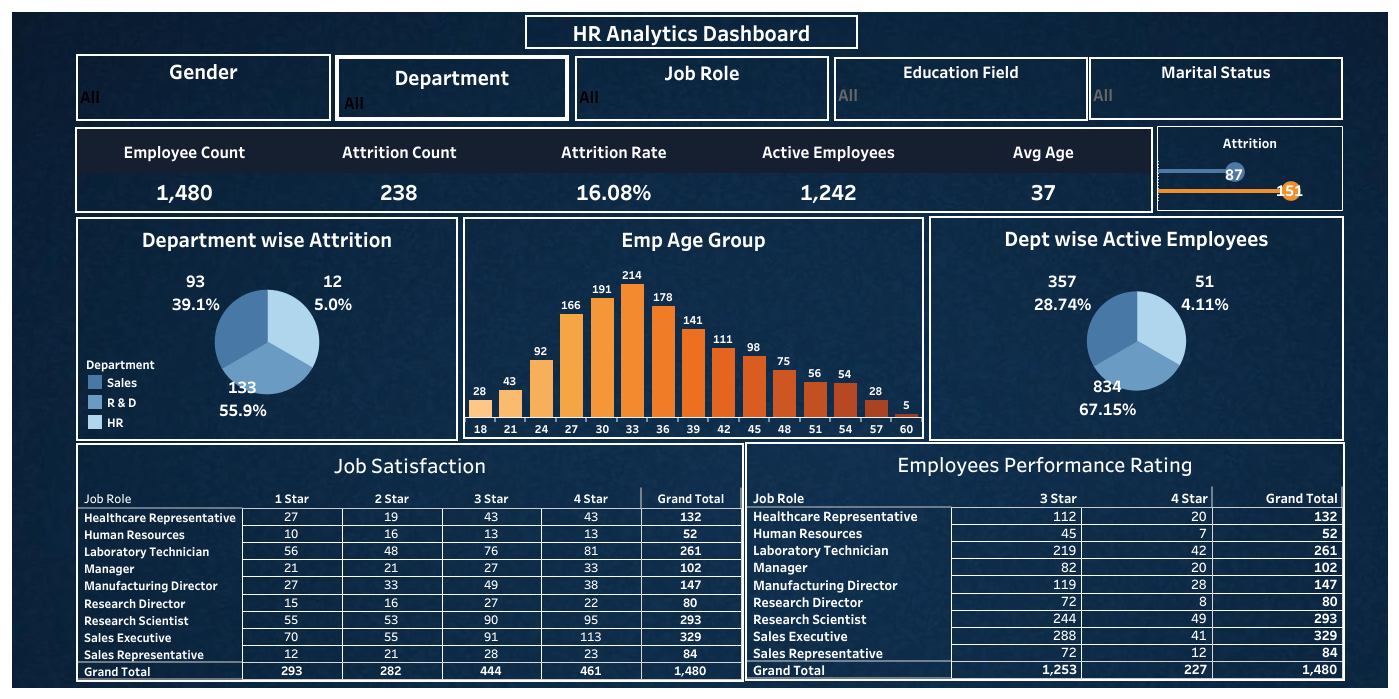

This screenshot's page, from the dashboard's own definition file:
{"tool":"tableau","page":{"name":"Dashboard 1","canvas":[1000,1000],"units":"permille","ordinal":0},"visuals":[{"type":"image","param":"Image/dark-blue-paper-texture-wall-background-design-illustration-eps10-vector.j","box":[5.7,11.4,988.6,977.1]},{"type":"text","box":[374.9,21.2,237.9,48.8]},{"type":"filter","title":"Total Employees","param":"[federated.0ett6mc152xcts19dvu2r16h01vx].[none:Gender:nk]","box":[54.6,77.1,181.5,95.7]},{"type":"filter","title":"Emp Age Group","param":"[federated.0ett6mc152xcts19dvu2r16h01vx].[none:Department:nk]","box":[239.3,78.6,167.1,94.3]},{"type":"filter","title":"Job Satisfaction","param":"[federated.0ett6mc152xcts19dvu2r16h01vx].[none:JobRole:nk]","box":[410.7,80,181.4,92.9]},{"type":"filter","title":"Attrition By Gender","param":"[federated.0ett6mc152xcts19dvu2r16h01vx].[none:EducationField:nk]","box":[595.7,81.4,181.4,91.4]},{"type":"filter","title":"Attrition By Gender","param":"[federated.0ett6mc152xcts19dvu2r16h01vx].[none:MaritalStatus:nk]","box":[777.9,81.4,181.4,90]},{"type":"worksheet","title":"Attrition By Gender","mark":"Automatic","rows":["Gender"],"cols":["Calculation_1640436215264350209","Calculation_1640436215264350209"],"box":[826.1,180,133.1,121.4]},{"type":"worksheet","title":"Total Employees","mark":"Automatic","box":[53.9,181.4,770,122.9]},{"type":"worksheet","title":"Dept wise Active Employees","mark":"Pie","box":[663.9,308.6,296.2,321.4]},{"type":"worksheet","title":"Dept wise Attrition Count","mark":"Pie","box":[54.6,310,272.3,320]},{"type":"worksheet","title":"Emp Age Group","mark":"Automatic","rows":["EmployeeCount"],"cols":["Age (bin)"],"box":[330.8,310,329.2,317.1]},{"type":"legend","title":"Dept wise Attrition Count","param":"[federated.0ett6mc152xcts19dvu2r16h01vx].[none:Department:nk]","box":[60.7,504.3,67.9,115.7]},{"type":"worksheet","title":"Performance Rating","mark":"Automatic","rows":["JobRole"],"cols":["PerformanceRating"],"box":[532.3,631.4,428.5,341.4]},{"type":"worksheet","title":"Job Satisfaction","mark":"Automatic","rows":["JobRole"],"cols":["JobSatisfaction"],"box":[54.6,632.9,476.9,341.4]}]}

Visuals, with their boxes on the dashboard's canvas, which has no fixed pixel size, in thousandths of its width and height (x1, y1, x2, y2). These are canvas units, not pixel positions in the 1399x699 screenshot, which may show the page scaled, cropped or inside an application window:
image: [6, 11, 994, 988]
text: [375, 21, 613, 70]
"Total Employees" filter: [55, 77, 236, 173]
"Emp Age Group" filter: [239, 79, 406, 173]
"Job Satisfaction" filter: [411, 80, 592, 173]
"Attrition By Gender" filter: [596, 81, 777, 173]
"Attrition By Gender" filter: [778, 81, 959, 171]
"Attrition By Gender" worksheet: [826, 180, 959, 301]
"Total Employees" worksheet: [54, 181, 824, 304]
"Dept wise Active Employees" worksheet (Pie marks): [664, 309, 960, 630]
"Dept wise Attrition Count" worksheet (Pie marks): [55, 310, 327, 630]
"Emp Age Group" worksheet: [331, 310, 660, 627]
"Dept wise Attrition Count" legend: [61, 504, 129, 620]
"Performance Rating" worksheet: [532, 631, 961, 973]
"Job Satisfaction" worksheet: [55, 633, 532, 974]
